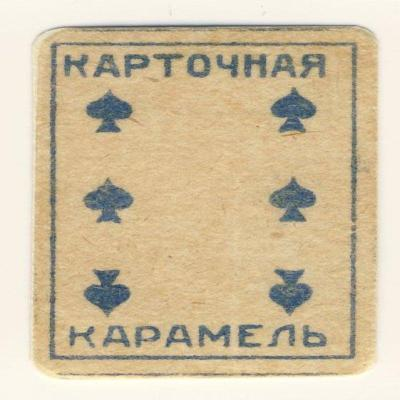graphics: (26, 23, 379, 386)
